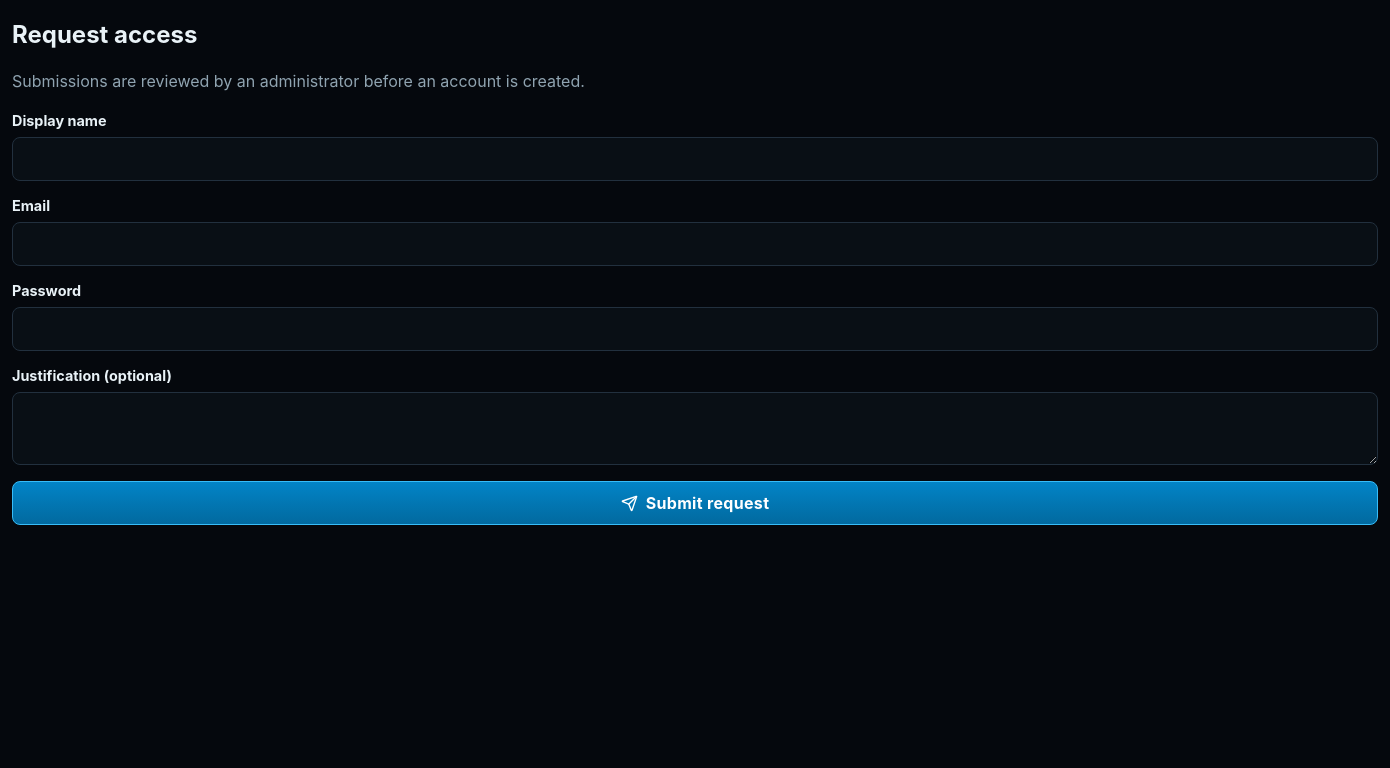
shows validation messages before submitting
Type "short" into the password field labelled "Password" at (695, 329), box x1=12 y1=307 x2=1378 y2=351
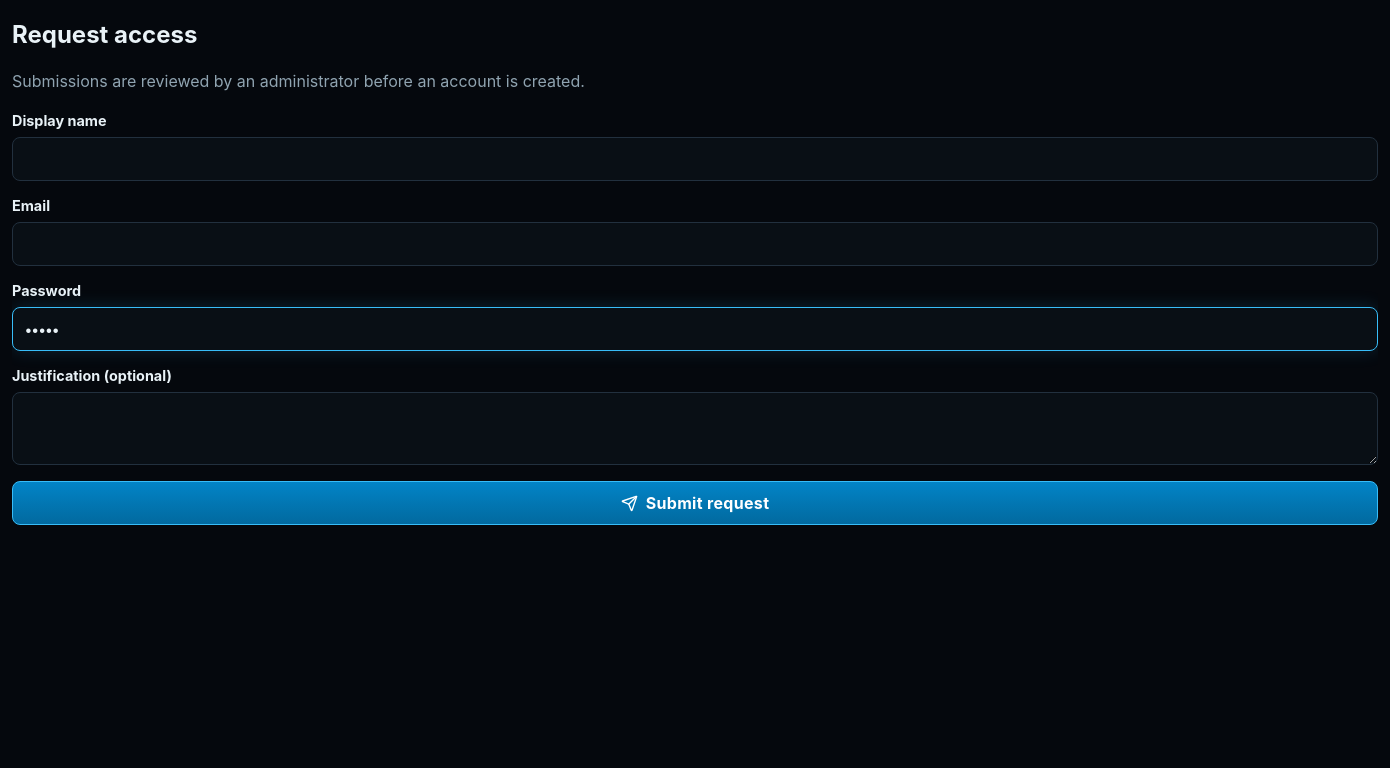
Click the button "Submit request" at (695, 503), box x1=12 y1=481 x2=1378 y2=525
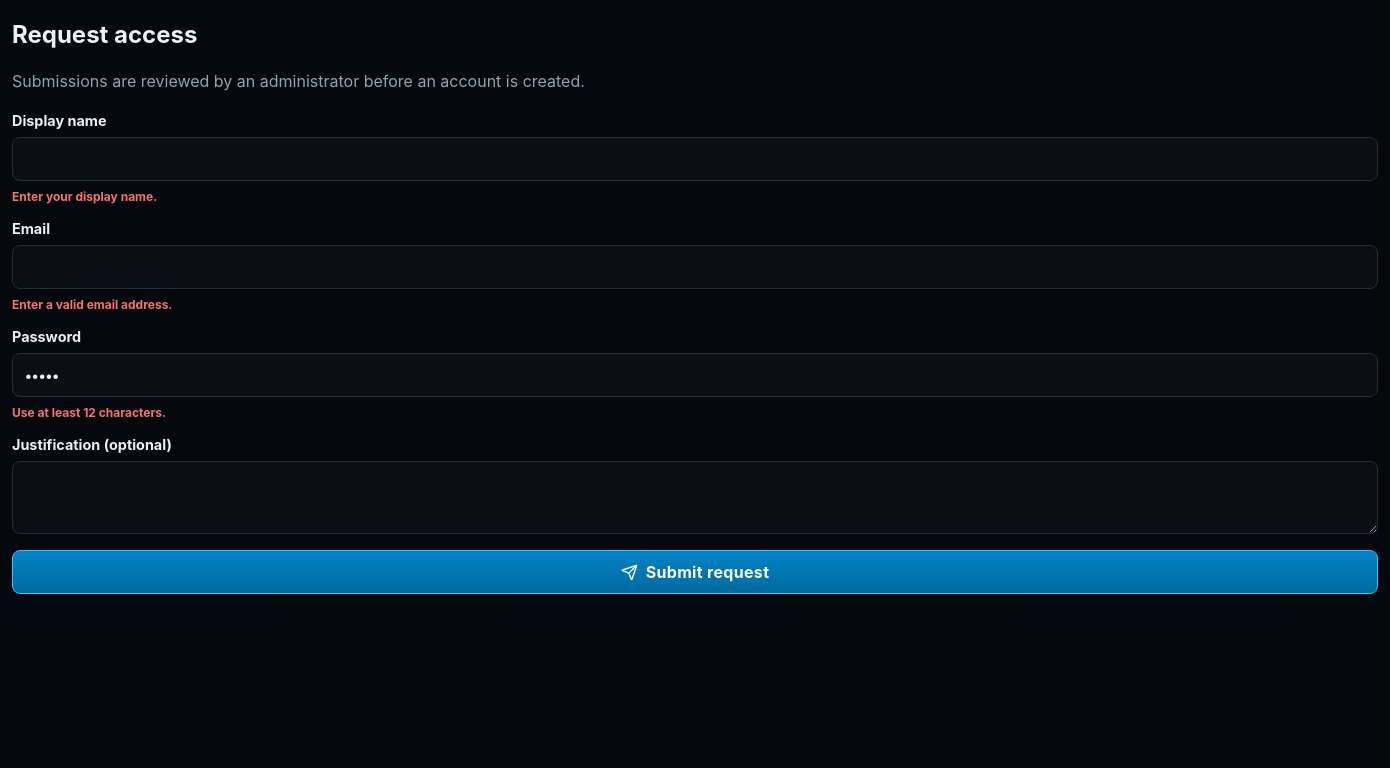
Now the text "Enter your display name." is shown, box x1=12 y1=189 x2=157 y2=204
Now the text "Enter a valid email address." is shown, box x1=12 y1=297 x2=172 y2=312
Now the text "Use at least 12 characters." is shown, box x1=12 y1=405 x2=166 y2=420
